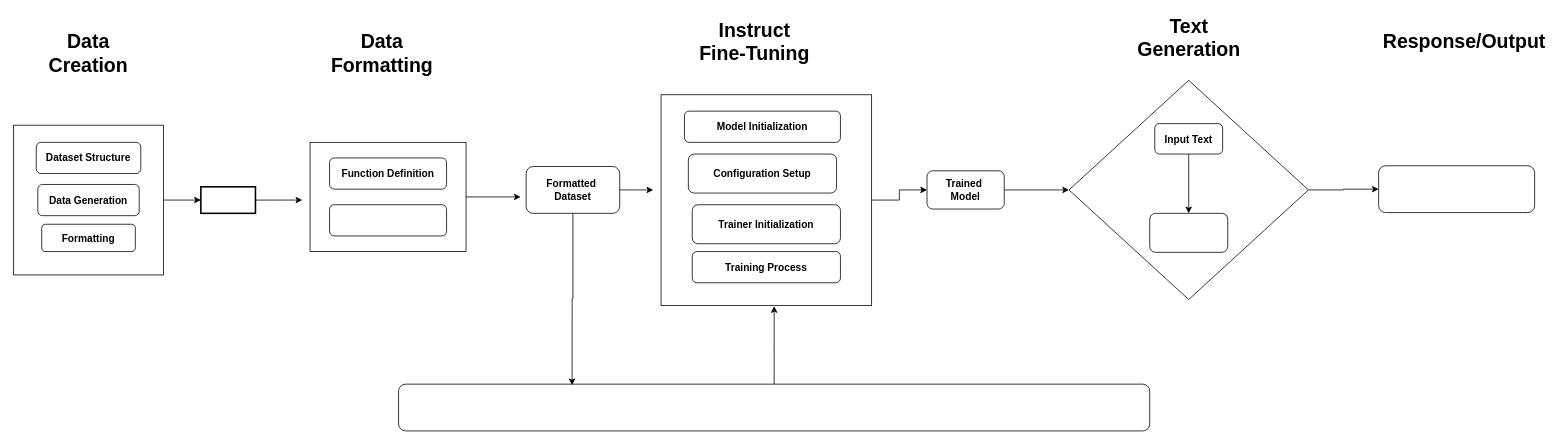
The diagram is 1559 pixels wide and 445 high, and some of its shapes have lost their labels. Each missing label, with the centre of its shape:
"Dataset" belongs at (228,200).
"Generated Response" belongs at (1456,189).
"Hugging Face Hub" belongs at (774,407).
"Mapping process" belongs at (388,220).
"Pipeline Execution" belongs at (1188,232).
